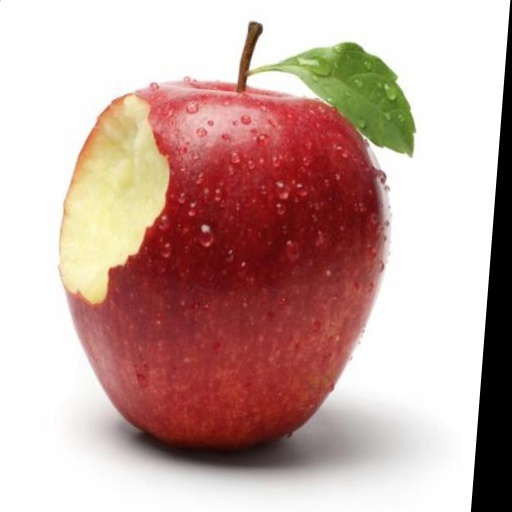fruit: (60, 80, 389, 450)
